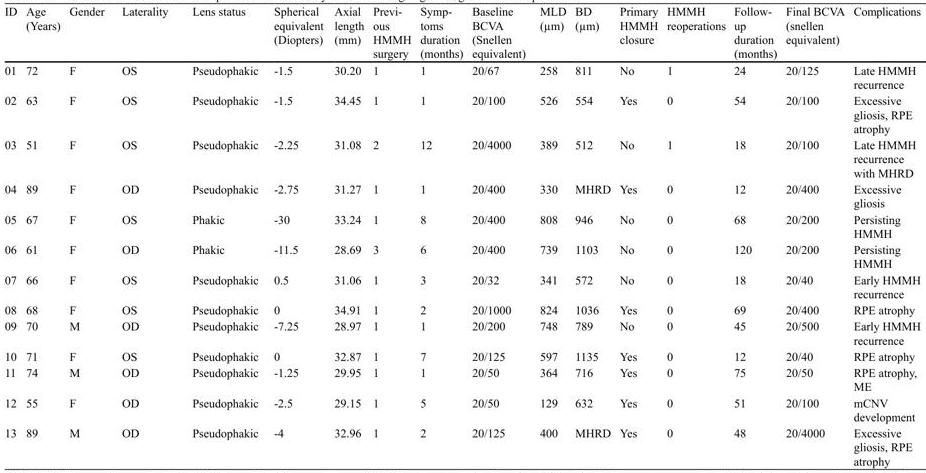table: (4, 4, 920, 467)
table column: (180, 4, 266, 467), (849, 4, 920, 467), (662, 4, 730, 467), (781, 4, 849, 467), (113, 4, 180, 467), (467, 4, 532, 467), (266, 4, 329, 467), (415, 4, 467, 467), (730, 4, 781, 467), (65, 4, 113, 467), (368, 4, 415, 467), (615, 4, 662, 467), (570, 4, 615, 467), (21, 4, 65, 467), (329, 4, 368, 467), (532, 4, 570, 467), (4, 4, 21, 467)
table column header: (4, 4, 920, 61)
table row: (4, 4, 920, 61), (4, 92, 920, 136), (4, 136, 920, 180), (4, 424, 920, 467), (4, 61, 920, 92), (4, 180, 920, 211), (4, 317, 920, 348), (4, 211, 920, 241), (4, 241, 920, 271), (4, 271, 920, 301), (4, 364, 920, 394), (4, 394, 920, 424), (4, 301, 920, 317), (4, 348, 920, 364)
